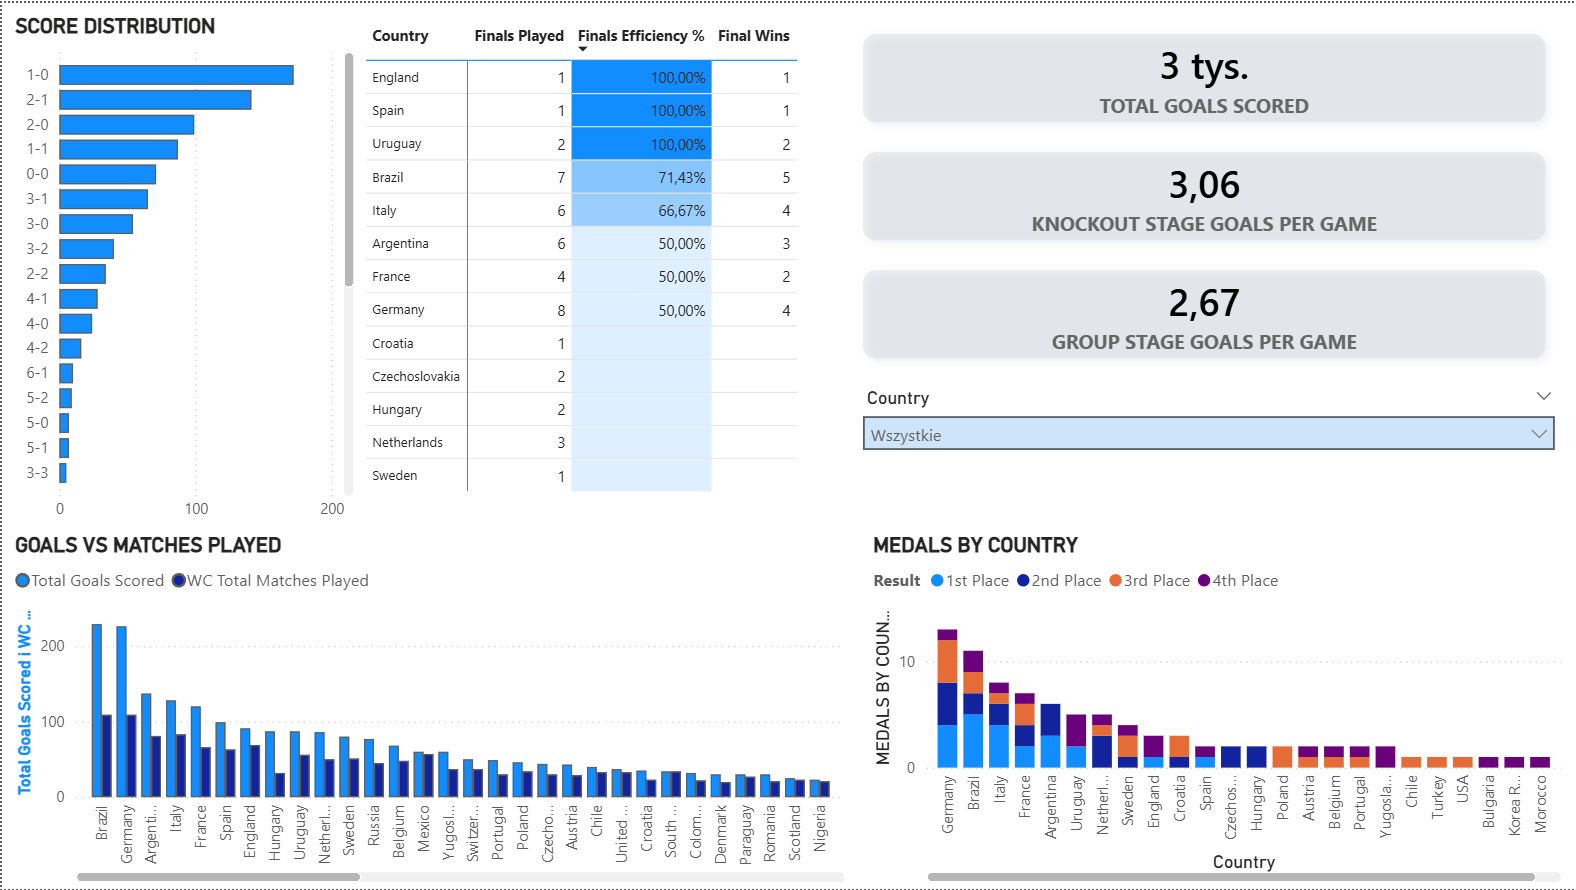

Layout of this report page (visuals, bound fields, positions):
{"tool":"powerbi","page":{"name":"All time World Cup Matches Analysis","canvas":[1280,720],"ordinal":1},"visuals":[{"type":"columnChart","title":"MEDALS BY COUNTRY","fields":{"Y":["CountNonNull(Top 4 Statistics.Country)"],"Category":["Top 4 Statistics.Country"],"Series":["Top 4 Statistics.Result"]},"box":[703.5,429.9,576.5,289.9],"z":0},{"type":"pivotTable","fields":{"Rows":["Top 4 Statistics.Country"],"Values":["_Measures.Finals Played","_Measures.Finals Efficiency %","_Measures.Final Wins"]},"box":[291.2,8.5,392,401.1],"z":1000},{"type":"clusteredColumnChart","title":"GOALS VS MATCHES PLAYED","fields":{"Category":["All WC teams.Country"],"Y":["_Measures.Total Goals Scored","_Measures.WC Total Matches Played"]},"box":[0,429.9,690.4,289.9],"z":2000},{"type":"cardVisual","fields":{"Data":["_Measures.Total Goals Scored","_Measures.WCM Knockout stage goals per game","_Measures.WCM Group stage goals per game"]},"box":[683.2,8.5,589.6,299.7],"z":3000},{"type":"barChart","title":"SCORE DISTRIBUTION","fields":{"Category":["world_cup_matches.WCM results"],"Y":["CountNonNull(world_cup_matches.WCM results)"]},"box":[0,8.5,291.2,421.4],"z":4000},{"type":"slicer","fields":{"Values":["All WC teams.Country"]},"box":[690.4,308.2,589.6,94.2],"z":5000}]}

Visuals, with their boxes in screenshot pixels (x1, y1, x2, y2), scaled from the page's 1280x720 canvas onto the 1576x890 screenshot:
"MEDALS BY COUNTRY" columnChart: bbox=[866, 531, 1575, 889]
pivotTable - Top 4 Statistics.Country x _Measures.Finals Played: bbox=[359, 11, 841, 506]
"GOALS VS MATCHES PLAYED" clusteredColumnChart: bbox=[0, 531, 850, 889]
cardVisual - _Measures.Total Goals Scored x _Measures.WCM Knockout stage goals per game: bbox=[841, 11, 1567, 381]
"SCORE DISTRIBUTION" barChart: bbox=[0, 11, 359, 531]
slicer - All WC teams.Country: bbox=[850, 381, 1575, 497]
